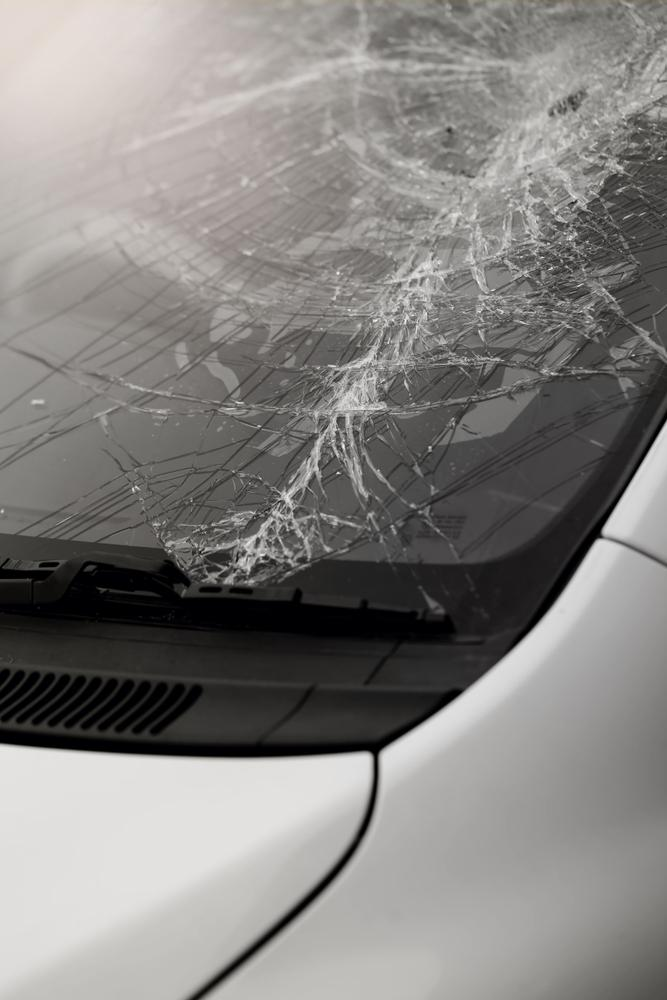glass shatter: (0, 0, 667, 638)
